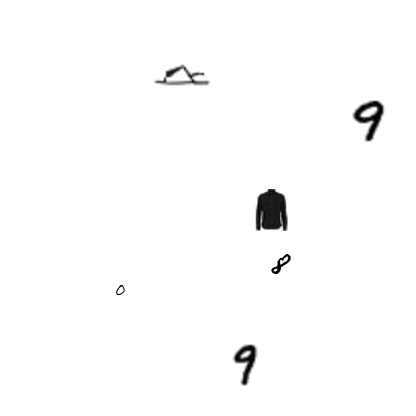0: (204, 29, 218, 43), (376, 78, 390, 92)
7: (314, 32, 342, 60)
Bag: (330, 285, 344, 299)
Sandal: (159, 321, 215, 377)
Trouser: (193, 166, 221, 194)
